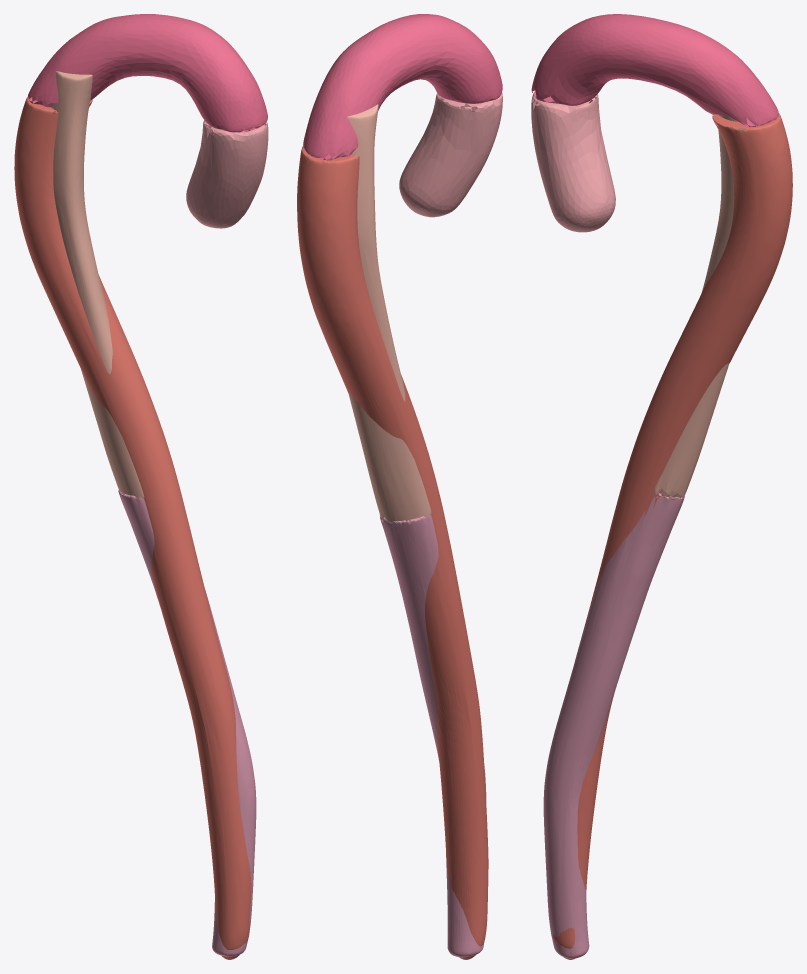
The model's file is aorta.glb.
3 views of the same model, side by side, from view 1: azimuth 90°, elevation 25°; view 2: azimuth 150°, elevation 25°; view 3: azimuth 270°, elevation 25° (orthographic). The views are drawn at different scales.
Visible parts, largest first — view 1: descending aorta, arch of aorta, descending thoracic aorta, ascending aorta, abdominal aorta; view 2: descending aorta, arch of aorta, descending thoracic aorta, ascending aorta, abdominal aorta; view 3: descending aorta, abdominal aorta, arch of aorta, ascending aorta, descending thoracic aorta.
Boxes of the visible parts, x1,y1,x2,y2 form: descending aorta: [14, 96, 251, 959]; arch of aorta: [28, 14, 267, 132]; descending thoracic aorta: [50, 71, 144, 498]; ascending aorta: [186, 120, 268, 228]; abdominal aorta: [118, 490, 256, 956]; descending aorta: [297, 146, 488, 959]; arch of aorta: [303, 14, 502, 160]; descending thoracic aorta: [336, 104, 431, 523]; ascending aorta: [399, 93, 502, 217]; abdominal aorta: [379, 514, 486, 957]; descending aorta: [551, 113, 792, 959]; abdominal aorta: [543, 493, 684, 958]; arch of aorta: [531, 14, 778, 126]; ascending aorta: [531, 94, 615, 232]; descending thoracic aorta: [653, 114, 748, 498].
Bounding box in the file's own units: 41.25 × 370 × 91.91.
